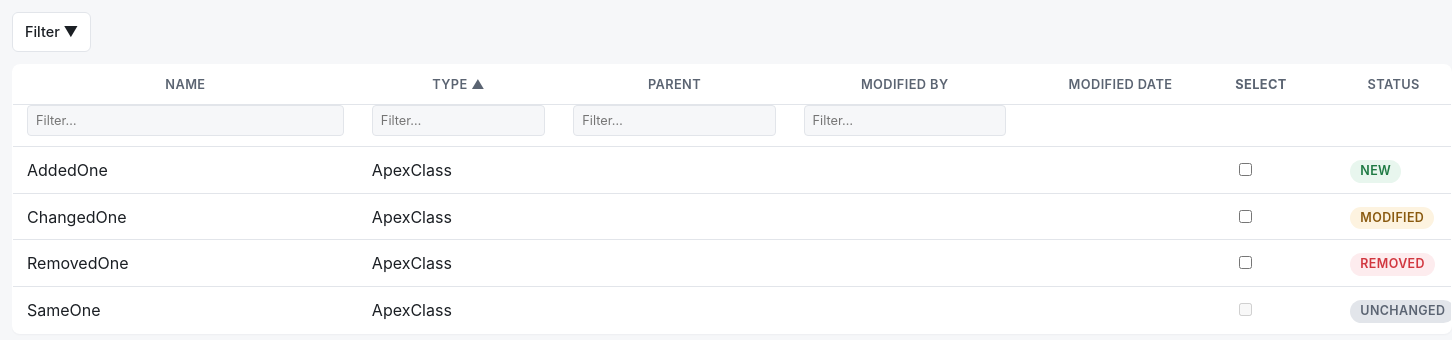
DiffTable › status filter › opens the filter panel with a checkbox per status, all checked by default
The width and height of the screenshot is (1452, 340).
Click the button "Filter ▼": {"x": 52, "y": 32} [12, 12, 91, 52]
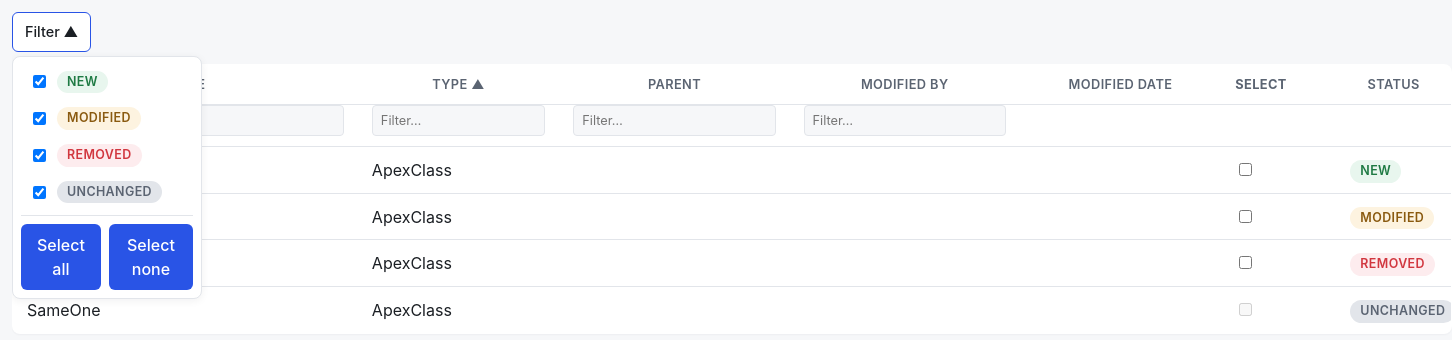
Expected: the checkbox labelled "New" is checked, [33, 76, 46, 88]
Expected: the checkbox labelled "Modified" is checked, [33, 112, 46, 125]
Expected: the checkbox labelled "Removed" is checked, [33, 149, 46, 162]
